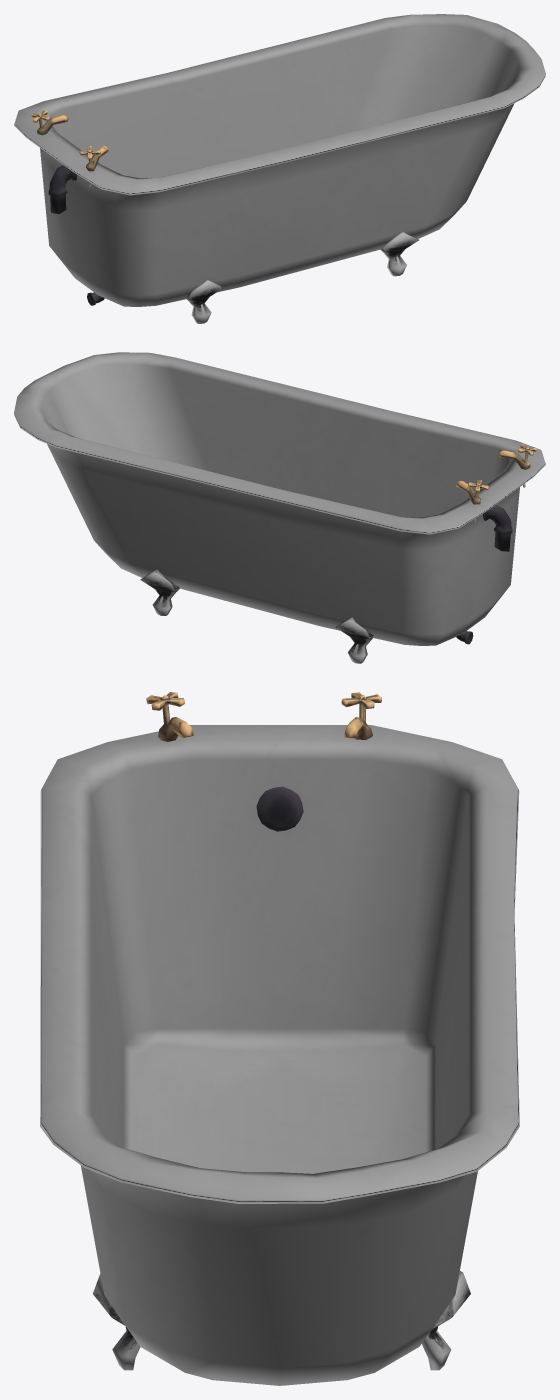
File: simple_bathtub.gltf
3 renders of one model, top to bottom at view 1: azimuth 30°, elevation 25°; view 2: azimuth 150°, elevation 25°; view 3: azimuth 270°, elevation 25°, orthographic. The views are drawn at different scales.
Parts seen in each view (by area): view 1: abandoned_bath_tub_a9; view 2: abandoned_bath_tub_a9; view 3: abandoned_bath_tub_a9.
Part boxes in pixels (box(x1,y1,x2,y2)): abandoned_bath_tub_a9: box(14, 14, 545, 323); abandoned_bath_tub_a9: box(14, 352, 545, 663); abandoned_bath_tub_a9: box(40, 692, 519, 1385).
Size of the model in its own units: 2 by 0.7613 by 0.8707.
Materials: 1 (1 with a texture image).
